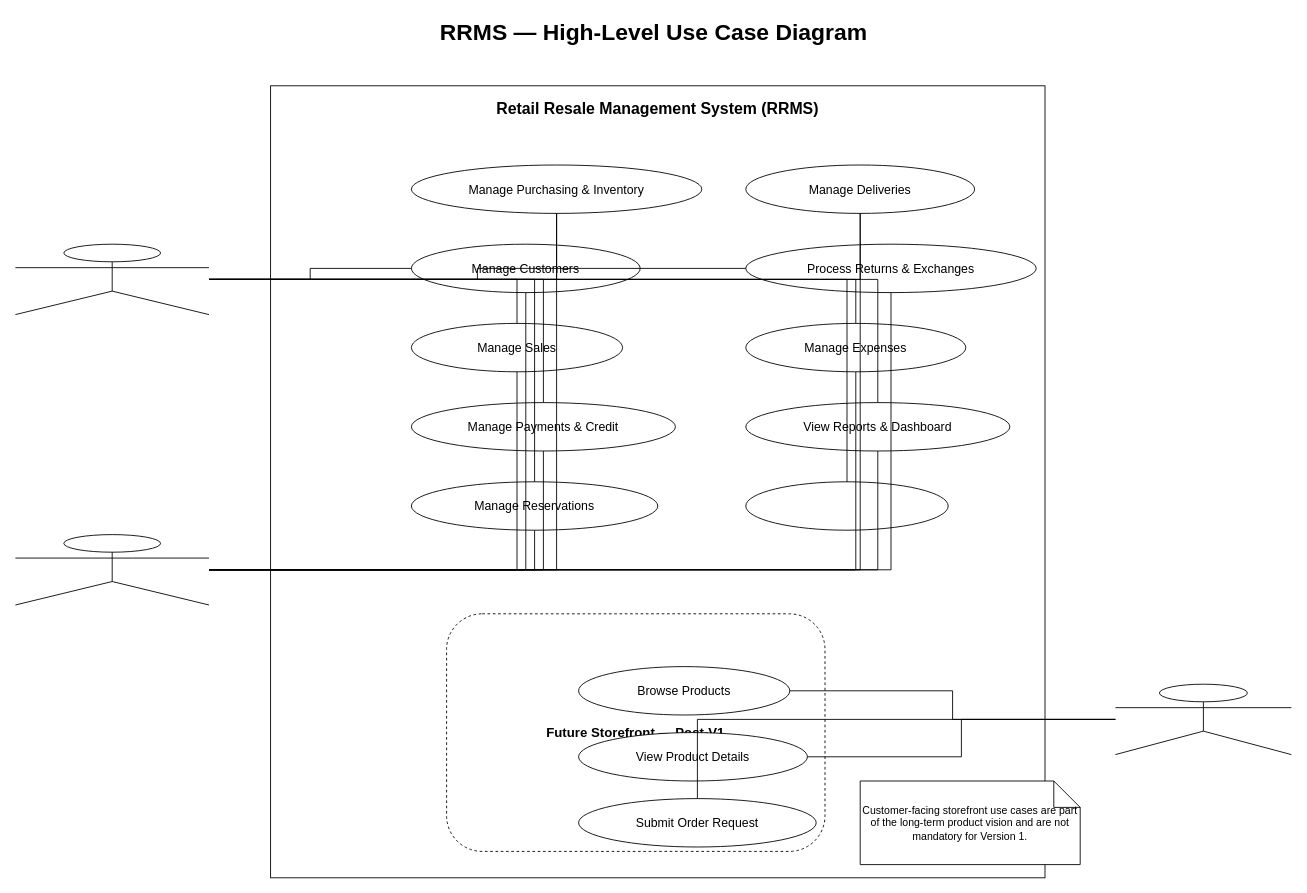
The diagram is 1307 pixels wide and 893 high, and some of its shapes have lost their labels. Each missing label, with the centre of its shape:
"Business Administrator" belongs at point (112, 279).
"Customer" belongs at point (1203, 719).
"Employee" belongs at point (112, 569).
"Manage Users" belongs at point (846, 505).
